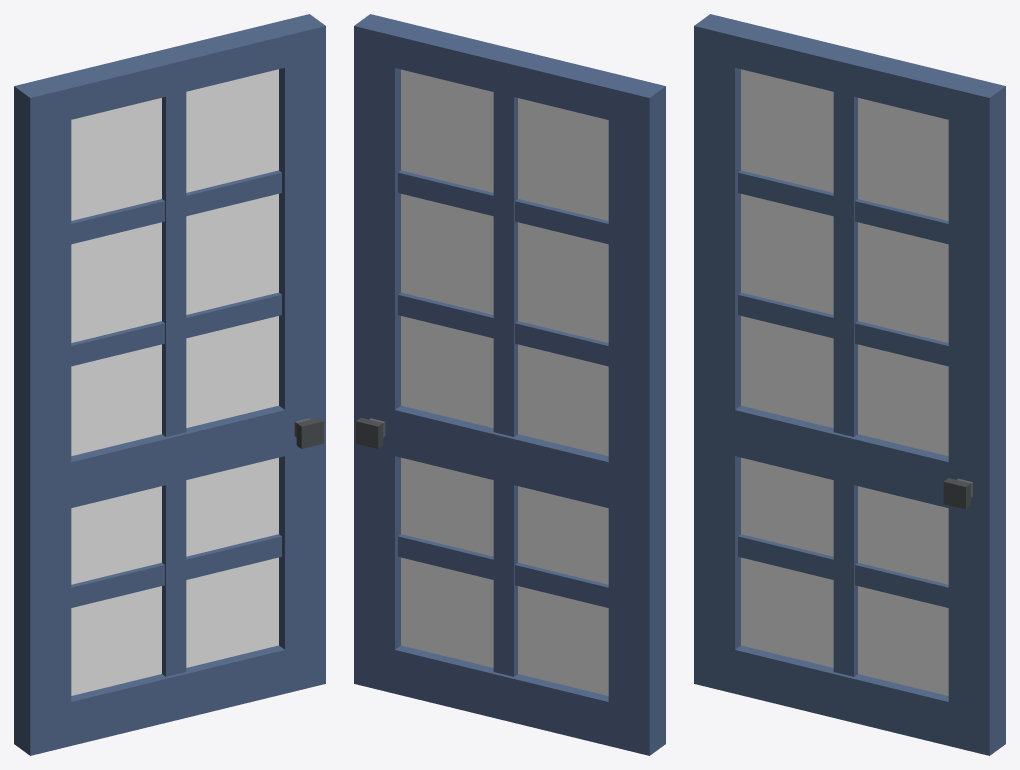
The model's file is SM_Bld_Glass_Door_02.obj.
3 renders of one model, left to right at view 1: azimuth 30°, elevation 25°; view 2: azimuth 150°, elevation 25°; view 3: azimuth 330°, elevation 25°, orthographic.
Parts seen in each view (by area): view 1: SM_Bld_Glass_Door_02_Mat_SwatchOverlay_Farm_01_Inst, SM_Bld_Glass_Door_02_M_LowPolyFarm_Glass; view 2: SM_Bld_Glass_Door_02_Mat_SwatchOverlay_Farm_01_Inst, SM_Bld_Glass_Door_02_M_LowPolyFarm_Glass; view 3: SM_Bld_Glass_Door_02_Mat_SwatchOverlay_Farm_01_Inst, SM_Bld_Glass_Door_02_M_LowPolyFarm_Glass.
Part boxes in pixels (bbox=[...]): SM_Bld_Glass_Door_02_Mat_SwatchOverlay_Farm_01_Inst: bbox=[14, 14, 325, 755]; SM_Bld_Glass_Door_02_M_LowPolyFarm_Glass: bbox=[71, 69, 278, 695]; SM_Bld_Glass_Door_02_Mat_SwatchOverlay_Farm_01_Inst: bbox=[354, 14, 665, 755]; SM_Bld_Glass_Door_02_M_LowPolyFarm_Glass: bbox=[401, 69, 608, 695]; SM_Bld_Glass_Door_02_Mat_SwatchOverlay_Farm_01_Inst: bbox=[694, 14, 1005, 755]; SM_Bld_Glass_Door_02_M_LowPolyFarm_Glass: bbox=[741, 69, 948, 695].
Bounding box in the file's own units: 1.05 × 2.22 × 0.2336.
2 materials, 1 textured.
